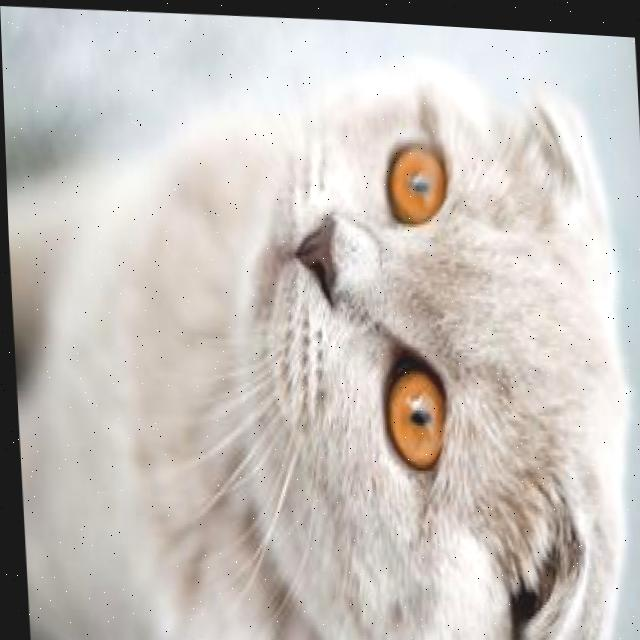Scottish Fold: (1, 24, 640, 640)
